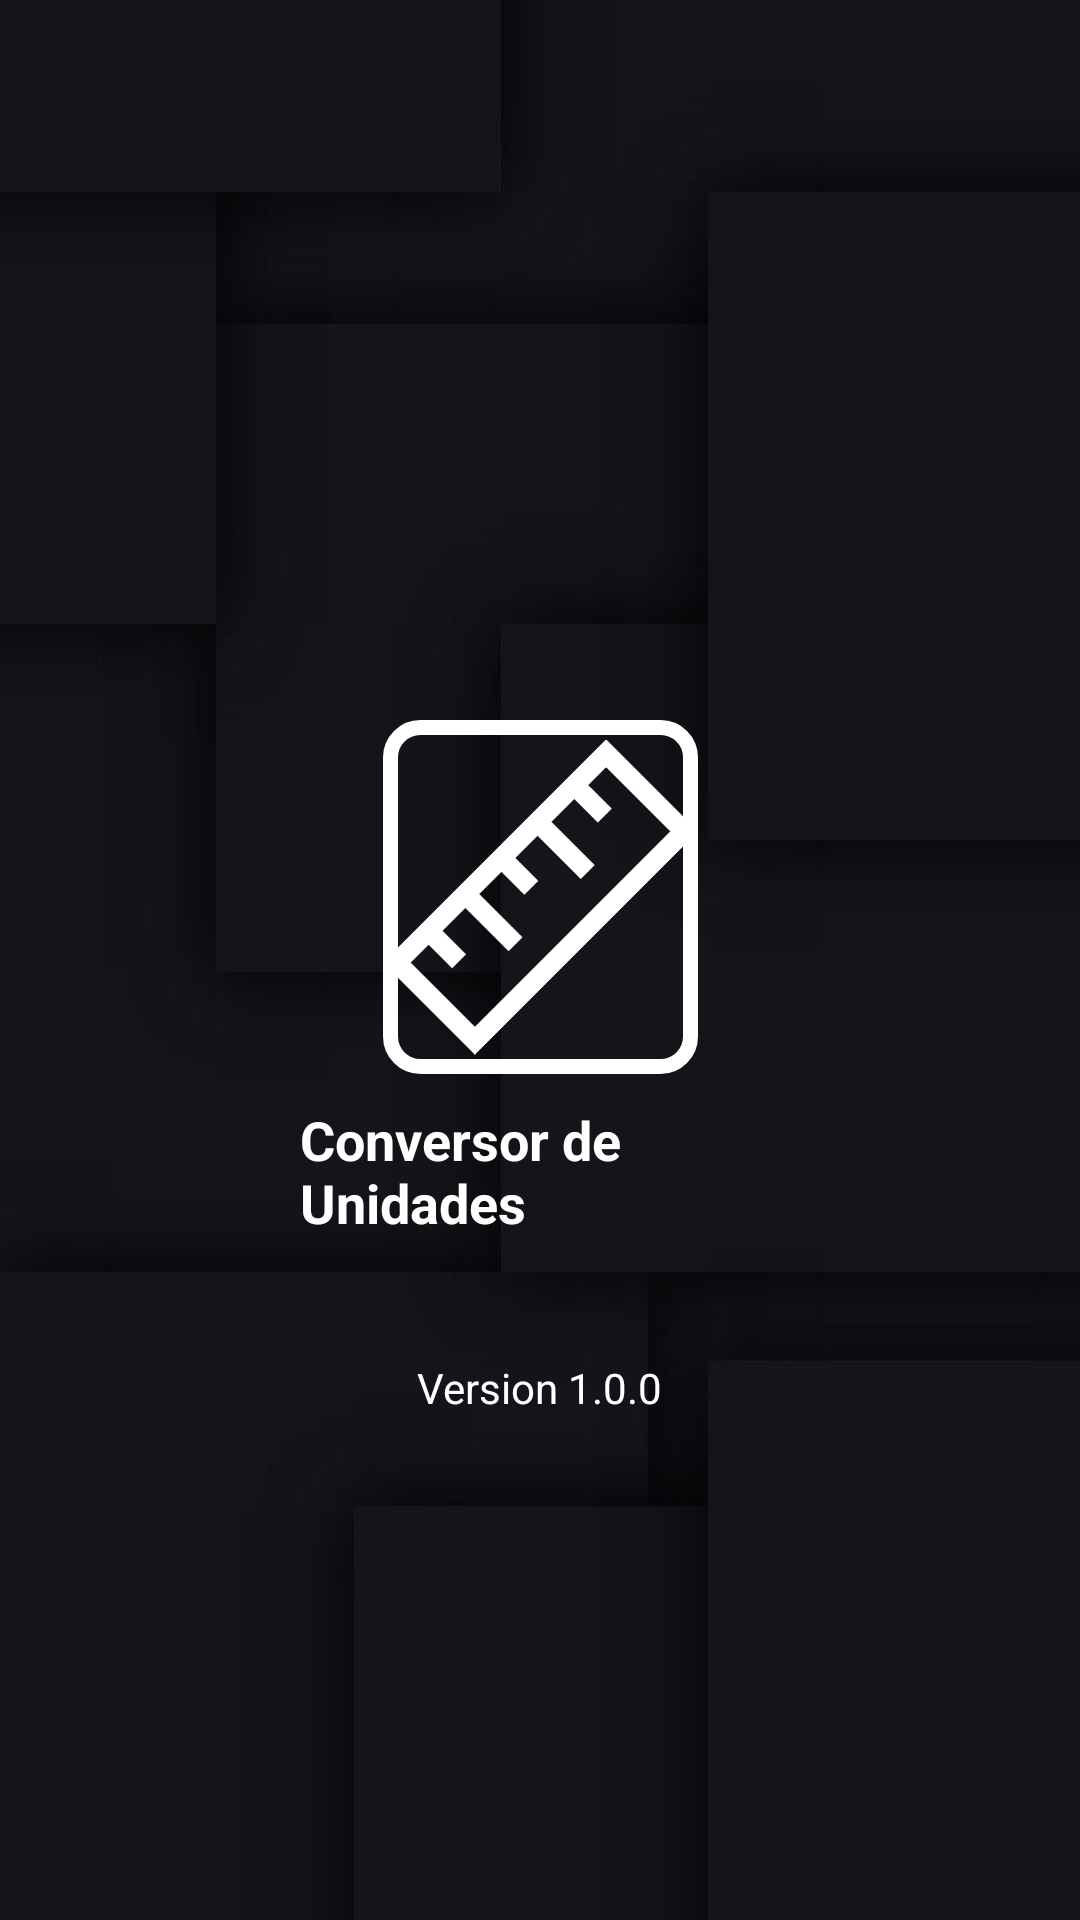

Screen size 1080*1920. Icon name, then its box in pixels as Rect(x1, y1, x2, y2):
app: Rect(383, 720, 698, 1074)
